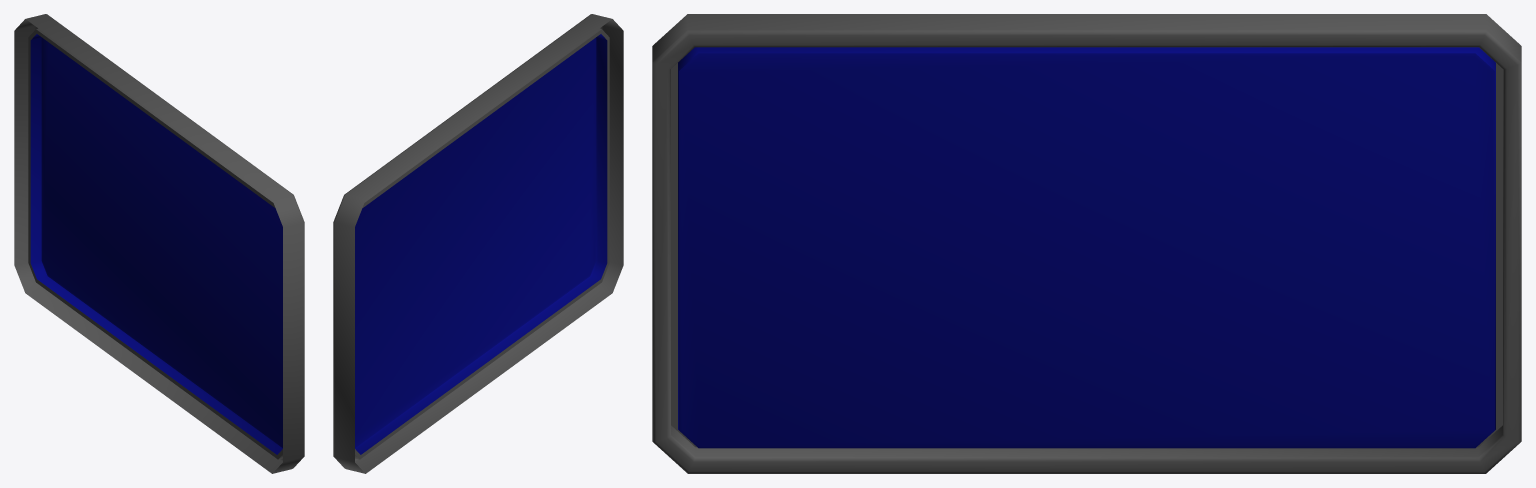
The model's file is ML_board.fbx.
3 renders of one model, left to right at view 1: azimuth 30°, elevation 25°; view 2: azimuth 150°, elevation 25°; view 3: azimuth 270°, elevation 25°, orthographic. The views are drawn at different scales.
Visible parts, largest first — view 1: ML_board; view 2: ML_board; view 3: ML_board.
Part boxes in pixels (box(x1,y1,x2,y2)): ML_board: box(14, 14, 304, 473); ML_board: box(333, 14, 623, 473); ML_board: box(652, 14, 1521, 473).
Size of the model in its own units: 22.78 by 268 by 476.
